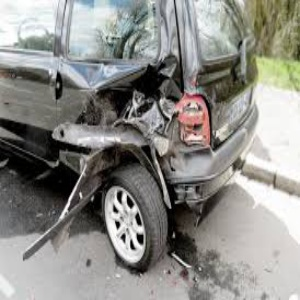bumper: (66, 109, 165, 177)
tail_lights: (171, 87, 215, 153)
